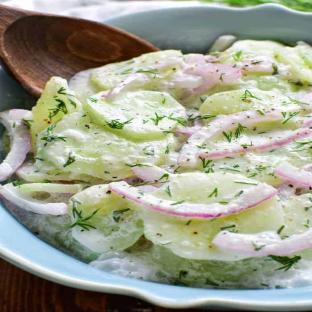Cucumber: (36, 113, 174, 180), (144, 198, 283, 260), (84, 91, 186, 140), (69, 185, 143, 252), (29, 77, 82, 150), (91, 50, 181, 90), (200, 88, 300, 114), (219, 40, 283, 63), (280, 193, 311, 238), (277, 47, 311, 84), (69, 69, 102, 103)
